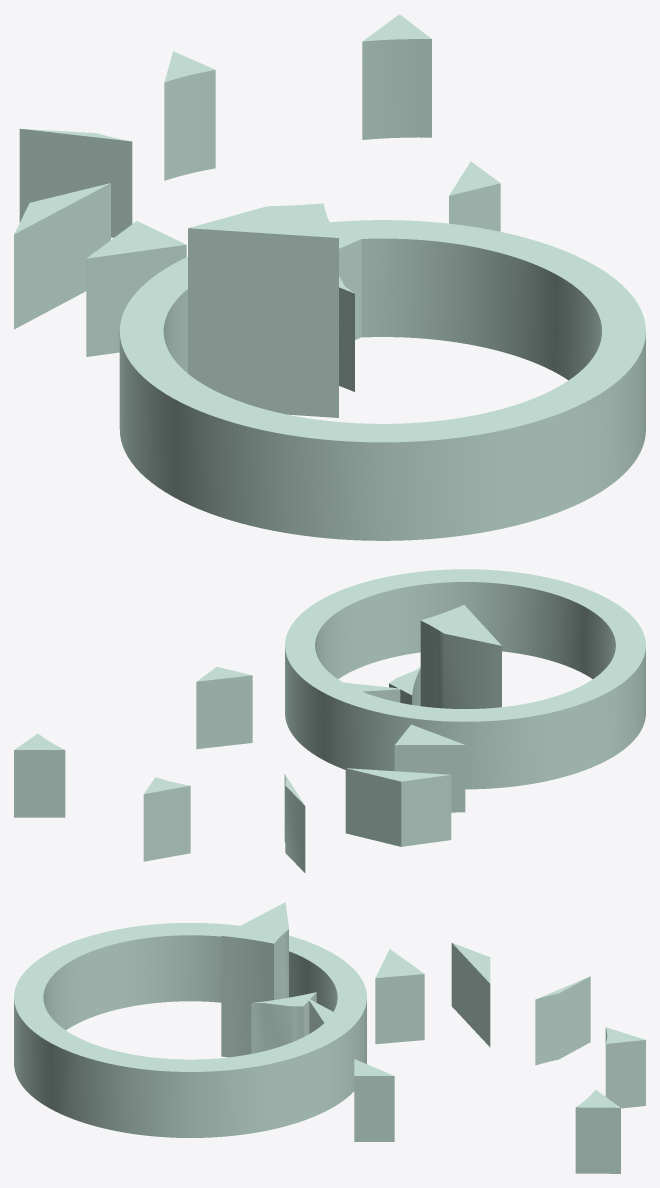
3 views of the same model, one above another, from view 1: azimuth 30°, elevation 25°; view 2: azimuth 150°, elevation 25°; view 3: azimuth 270°, elevation 25° (orthographic). The views are drawn at different scales.
Visible parts, largest first — view 1: Renderer Node; view 2: Renderer Node; view 3: Renderer Node.
Part boxes in pixels (box(x1,y1,x2,y2)): Renderer Node: box(14, 14, 645, 540); Renderer Node: box(14, 569, 645, 872); Renderer Node: box(14, 902, 645, 1173).
Bounding box in the file's own units: 1.36 × 0.4141 × 1.96.
